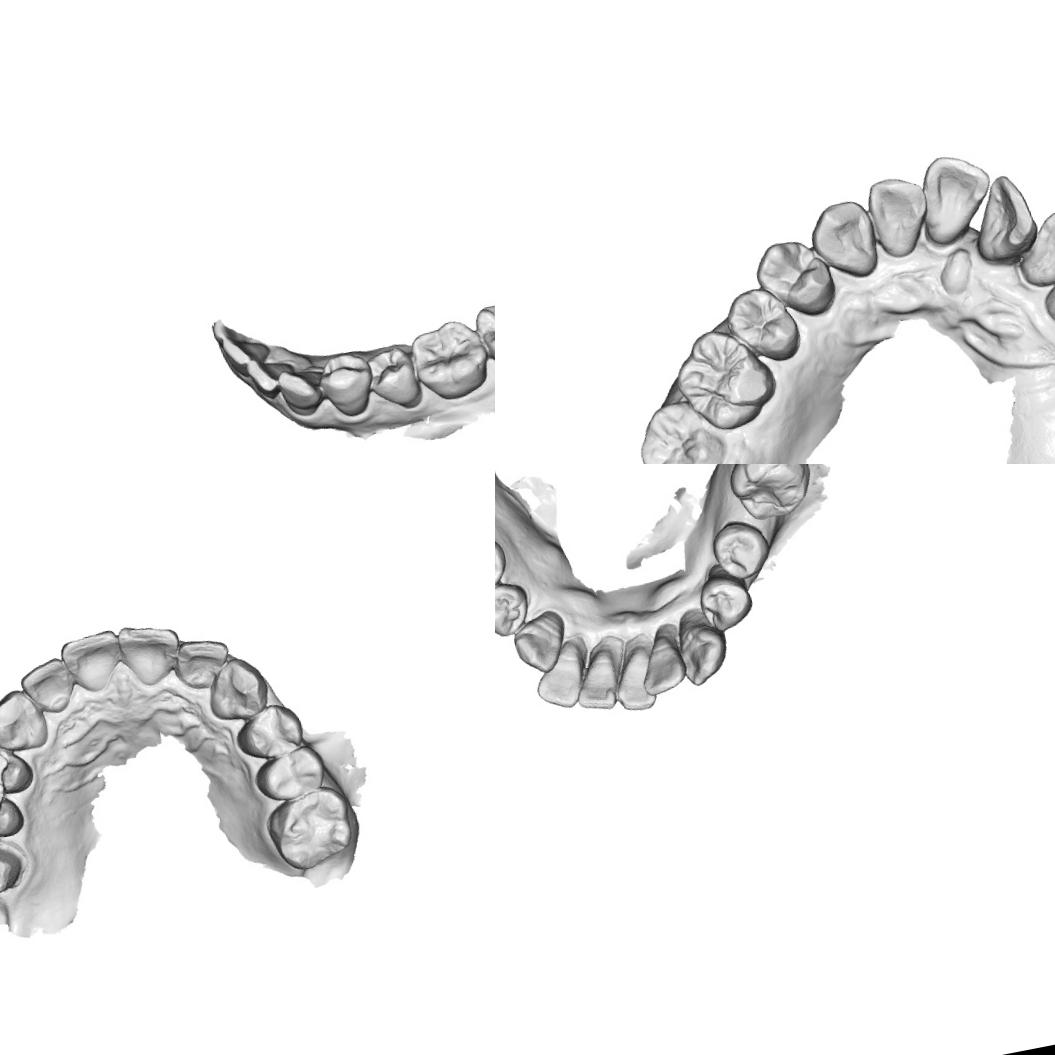canine: (804, 193, 884, 286), (198, 650, 274, 725), (671, 614, 736, 691), (507, 609, 572, 677), (0, 680, 53, 757), (273, 358, 333, 426), (1035, 256, 1055, 340)
crown: (0, 825, 32, 904)
incisor: (911, 146, 1002, 248), (962, 167, 1042, 264), (860, 168, 938, 262), (112, 613, 189, 692), (56, 626, 131, 700), (525, 638, 595, 716), (561, 642, 630, 718), (604, 636, 664, 717), (14, 652, 80, 720), (630, 630, 691, 700), (170, 631, 235, 695), (1008, 204, 1055, 291), (214, 327, 278, 386), (242, 352, 298, 403)
inlay: (0, 746, 20, 798), (0, 785, 9, 834)
molar: (665, 316, 784, 439), (258, 779, 362, 878), (404, 313, 495, 408), (629, 392, 733, 464), (724, 464, 819, 527), (473, 288, 495, 376)
premolar: (747, 230, 843, 327), (718, 278, 806, 372), (248, 739, 331, 808), (228, 698, 308, 766), (706, 512, 776, 586), (361, 340, 425, 418), (313, 348, 379, 422), (692, 568, 760, 638), (495, 577, 540, 642), (495, 530, 513, 596)
